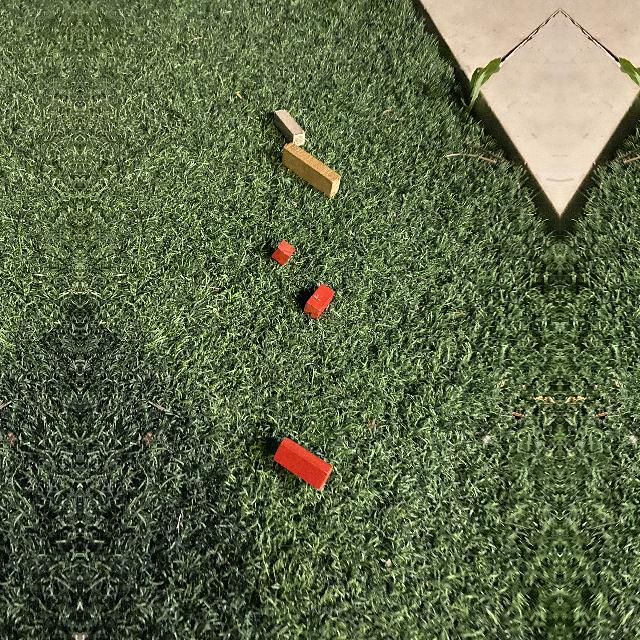block: (274, 110, 305, 146)
jenga: (282, 142, 341, 199)
red block: (273, 438, 333, 491), (303, 284, 335, 321)
red cube: (270, 240, 296, 265)
